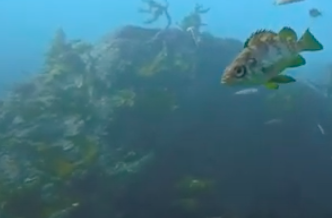mebaru: (215, 22, 328, 104)
